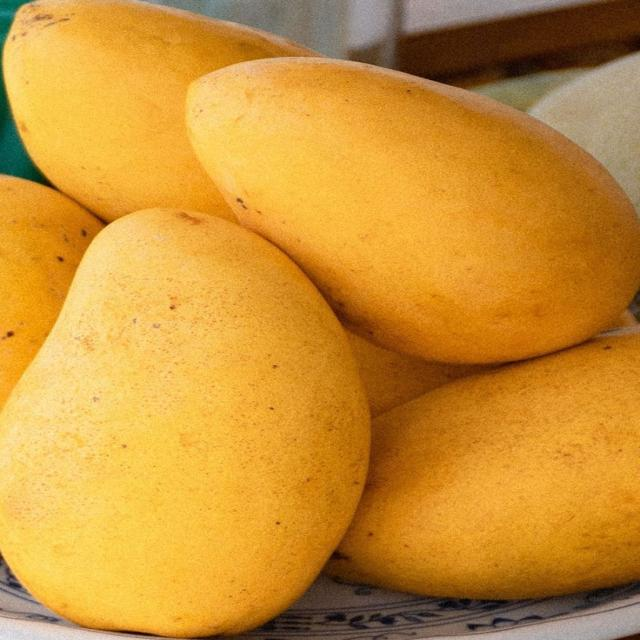mango: (0, 209, 369, 637), (187, 57, 639, 363), (327, 327, 639, 599), (4, 0, 313, 221), (0, 175, 103, 406), (529, 53, 639, 212), (347, 329, 492, 416)
